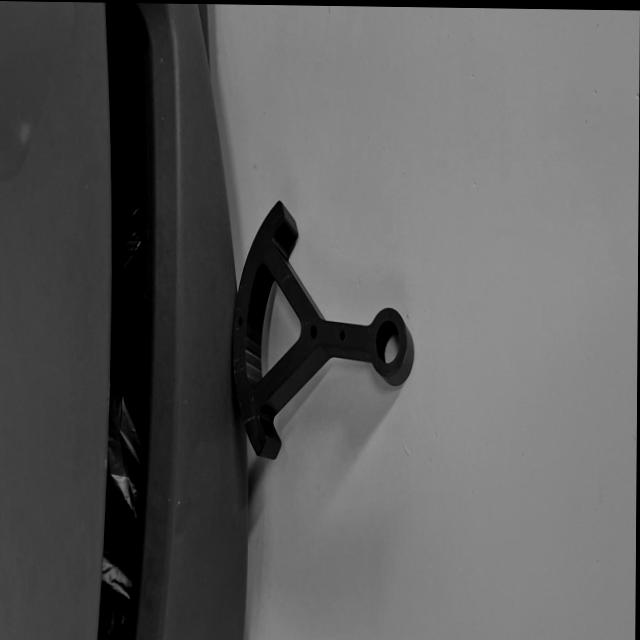haptic: (231, 198, 417, 463)
